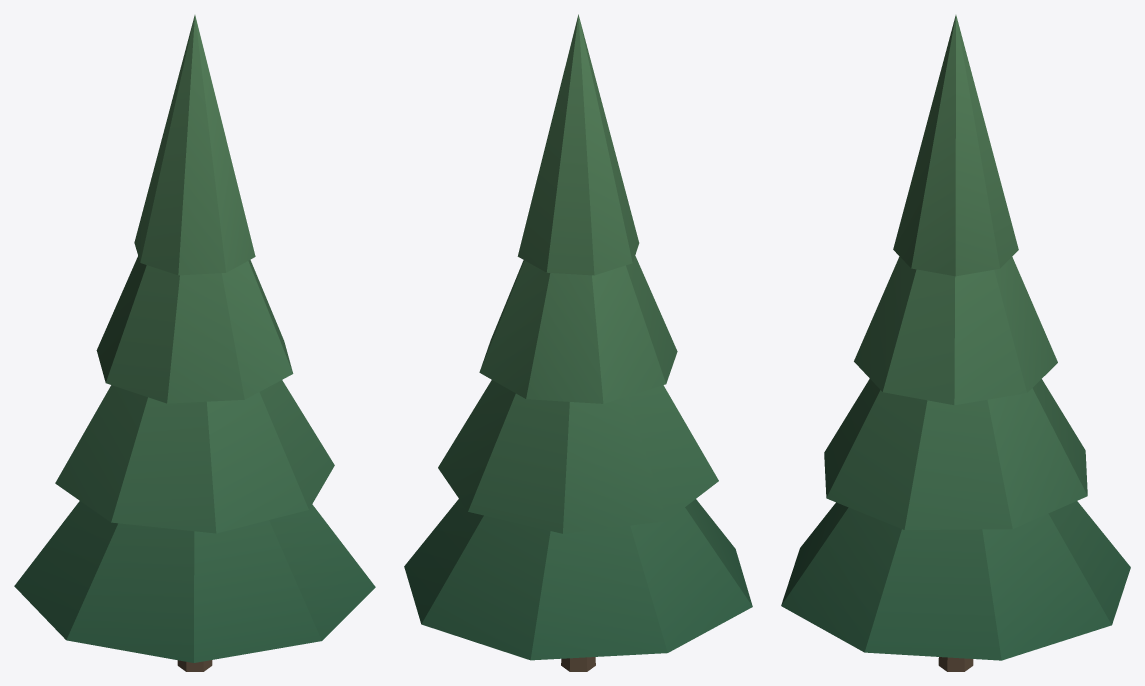
Rendered from tree_conifer_lod1.glb.
3 views of the same model, side by side, from view 1: azimuth 30°, elevation 25°; view 2: azimuth 150°, elevation 25°; view 3: azimuth 270°, elevation 25° (orthographic).
Visible parts, largest first — view 1: tree_conifer_lod1; view 2: tree_conifer_lod1; view 3: tree_conifer_lod1.
Part boxes in pixels (x1,y1,x2,y2): tree_conifer_lod1: (14,15,375,671); tree_conifer_lod1: (404,14,752,671); tree_conifer_lod1: (781,15,1130,671).
Size of the model in its own units: 5.22 by 10.73 by 5.22.
